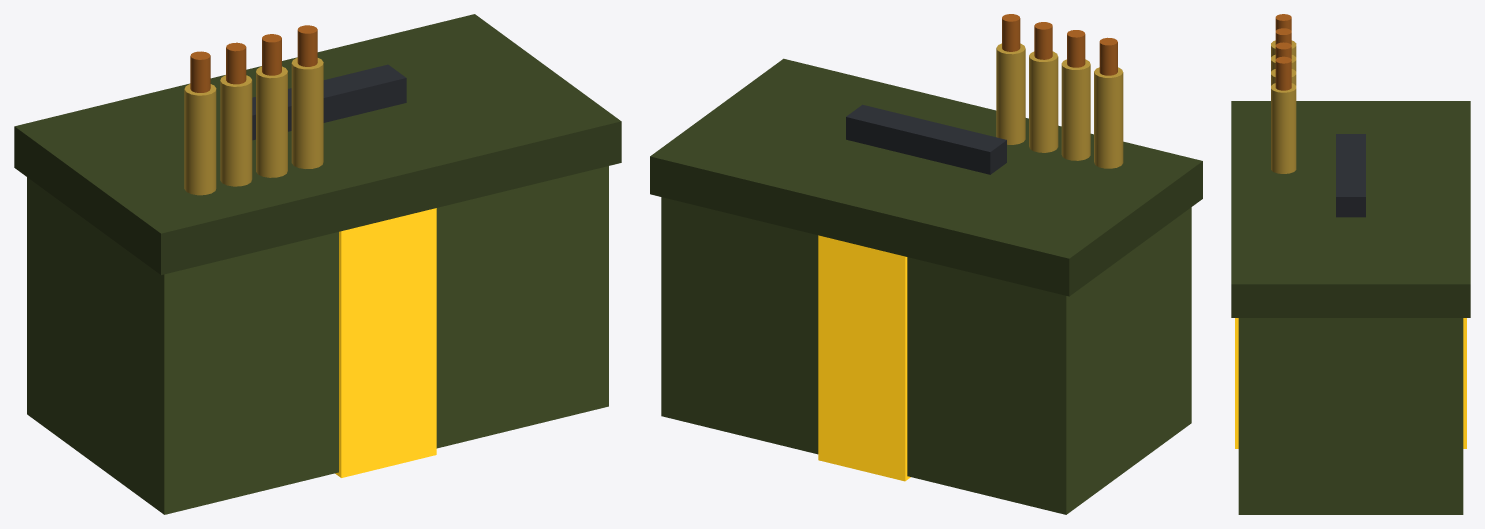
Rendered from caja_municion.glb.
3 renders of one model, left to right at view 1: azimuth 30°, elevation 25°; view 2: azimuth 150°, elevation 25°; view 3: azimuth 270°, elevation 25°, orthographic. The views are drawn at different scales.
Visible parts, largest first — view 1: Cuerpo, Tapa, Franja, Asa, Bala0, Bala1, Bala3, Bala2, Punta1, Punta0, Punta3, Punta2; view 2: Cuerpo, Tapa, Franja, Asa, Bala2, Bala0, Bala1, Bala3, Punta0, Punta3, Punta1, Punta2; view 3: Tapa, Cuerpo, Asa, Bala3, Franja, Punta3.
Boxes of the visible parts, <box> form: Cuerpo: <box>27,166,608,514</box>; Tapa: <box>14,14,621,274</box>; Franja: <box>335,208,436,477</box>; Asa: <box>252,64,406,140</box>; Bala0: <box>184,84,216,195</box>; Bala1: <box>220,75,252,186</box>; Bala3: <box>291,57,323,168</box>; Bala2: <box>256,66,287,177</box>; Punta1: <box>226,42,246,84</box>; Punta0: <box>190,51,210,92</box>; Punta3: <box>297,25,317,66</box>; Punta2: <box>262,34,281,75</box>; Cuerpo: <box>661,197,1191,514</box>; Tapa: <box>650,58,1202,296</box>; Franja: <box>818,235,910,481</box>; Asa: <box>846,104,1006,174</box>; Bala2: <box>1029,51,1058,152</box>; Bala0: <box>1094,67,1123,168</box>; Bala1: <box>1061,59,1090,160</box>; Bala3: <box>996,43,1025,144</box>; Punta0: <box>1099,37,1117,75</box>; Punta3: <box>1002,14,1020,51</box>; Punta1: <box>1067,30,1085,67</box>; Punta2: <box>1034,22,1052,59</box>; Tapa: <box>1231,101,1470,317</box>; Cuerpo: <box>1238,318,1463,514</box>; Asa: <box>1336,134,1365,217</box>; Bala3: <box>1271,83,1296,173</box>; Franja: <box>1235,318,1466,448</box>; Punta3: <box>1275,56,1291,90</box>.
Size of the model in its own units: 0.58 by 0.515 by 0.32.
